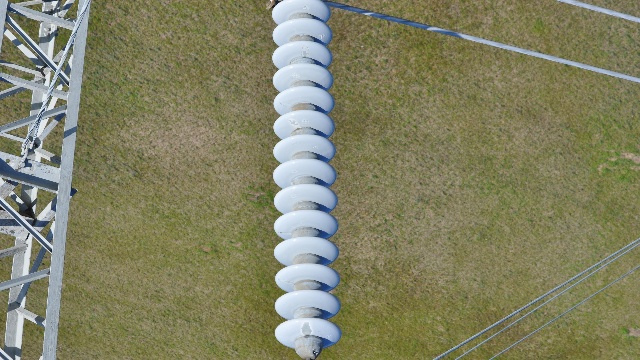insulator_unspecified: (267, 0, 343, 348)
pollution_flashover_local: (300, 322, 313, 336), (277, 278, 295, 285), (288, 118, 300, 128), (300, 45, 309, 58), (279, 100, 293, 107), (276, 231, 293, 236)
